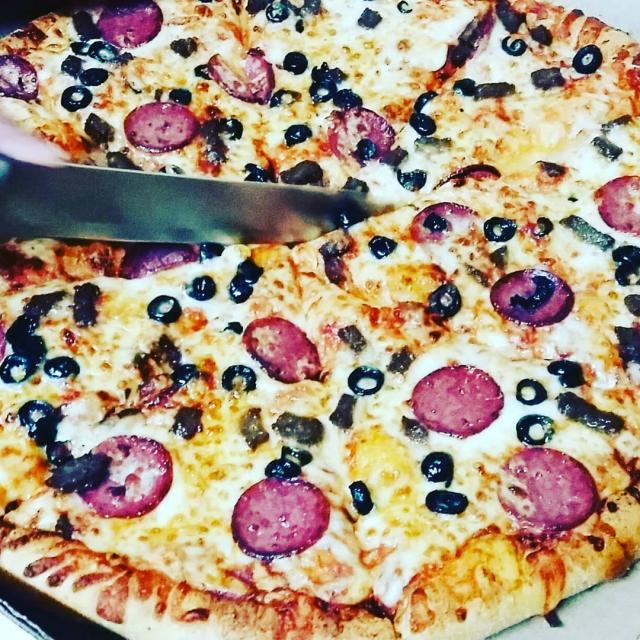black_olives: (44, 453, 112, 495), (514, 413, 556, 447), (0, 350, 38, 384), (420, 450, 454, 488), (18, 399, 60, 428), (347, 364, 385, 396), (144, 294, 183, 324), (424, 489, 469, 515), (429, 283, 462, 317), (23, 290, 66, 316), (546, 359, 584, 388), (12, 334, 46, 365), (220, 364, 256, 393), (346, 479, 374, 516), (5, 312, 39, 342), (41, 355, 81, 380), (28, 416, 59, 448), (572, 43, 603, 75), (61, 84, 94, 113), (515, 378, 548, 405), (185, 274, 217, 301), (228, 275, 254, 305), (263, 458, 302, 478), (368, 235, 400, 259), (237, 256, 264, 284), (309, 78, 337, 105), (283, 124, 313, 149), (280, 444, 314, 466), (396, 168, 427, 192), (483, 215, 510, 242), (408, 112, 437, 136), (614, 260, 640, 286), (89, 41, 120, 62), (172, 364, 200, 387), (500, 34, 528, 57), (333, 88, 362, 109), (283, 51, 308, 75), (414, 89, 438, 114), (423, 212, 452, 232), (80, 67, 109, 87), (266, 1, 290, 24), (611, 243, 640, 262), (45, 443, 71, 463), (317, 66, 347, 83), (222, 117, 244, 140), (354, 139, 377, 159), (200, 242, 224, 261), (311, 59, 329, 82), (534, 216, 553, 237), (244, 163, 270, 178), (169, 88, 191, 105), (68, 40, 91, 56), (270, 90, 286, 108), (395, 0, 413, 14), (245, 174, 264, 182)
pepperoni: (496, 445, 601, 533), (230, 473, 332, 561), (80, 433, 174, 519), (410, 363, 506, 438), (241, 313, 323, 384), (488, 266, 576, 328), (123, 101, 200, 154), (208, 52, 275, 106), (328, 107, 396, 159), (591, 172, 640, 238), (97, 0, 164, 48), (410, 202, 480, 246), (0, 52, 40, 98), (433, 164, 501, 188)
pizza: (0, 0, 640, 640)
